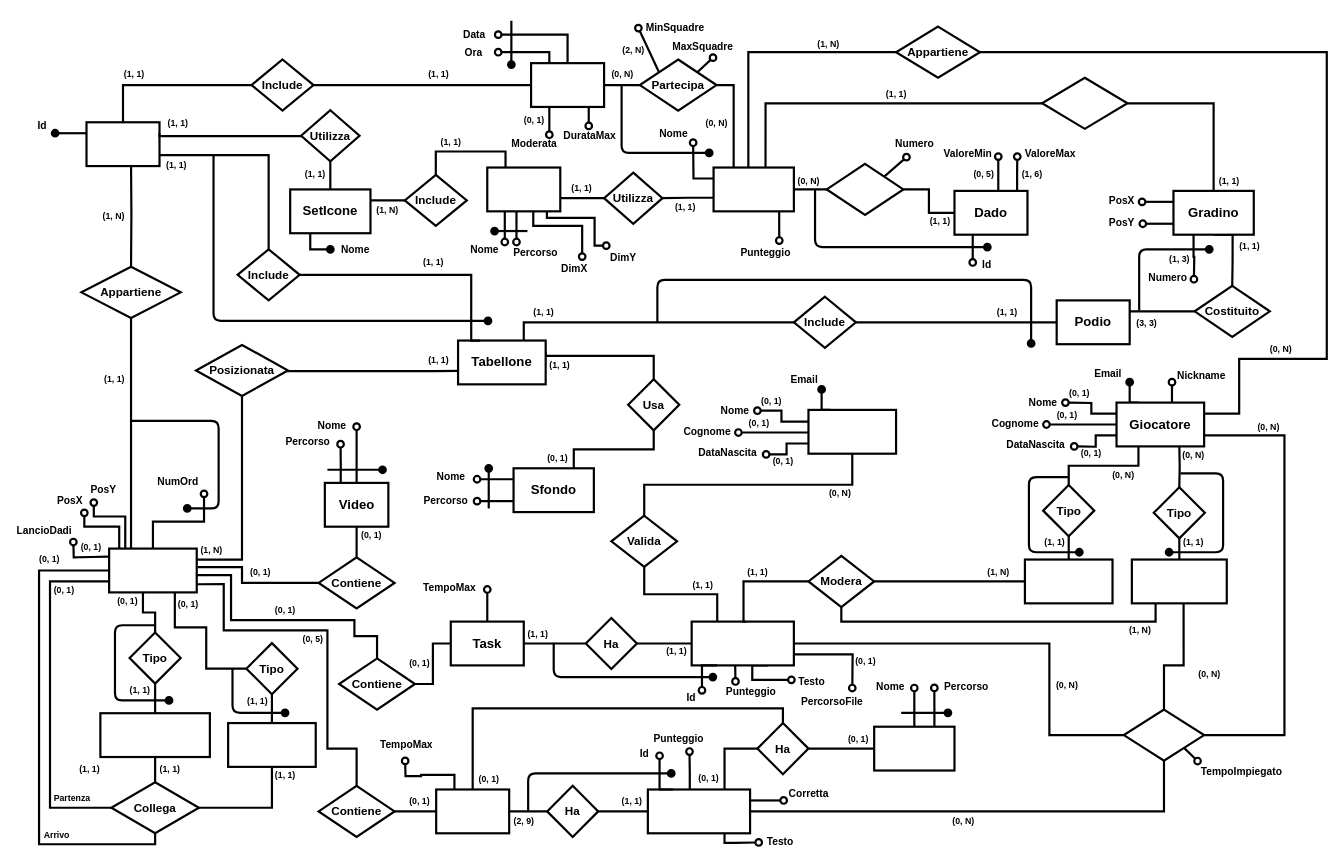
This 1341x864 diagram has some shape labels left out. The centre of each missing label's shape, as x and y in pixels:
Admin: point (852, 431)
Caposquadra: point (1178, 581)
Casella: point (152, 570)
CasellaScala: point (271, 745)
CasellaSerpente: point (155, 735)
Coach: point (1068, 581)
Fornisce: point (1163, 734)
Gioco: point (122, 144)
Icona: point (523, 189)
Immagine: point (914, 748)
Possiede: point (864, 189)
Quiz: point (472, 811)
RispostaQuiz: point (698, 811)
RispostaTask: point (742, 643)
Sfida: point (567, 85)
Squadra: point (753, 189)
Visualizza: point (1084, 103)
